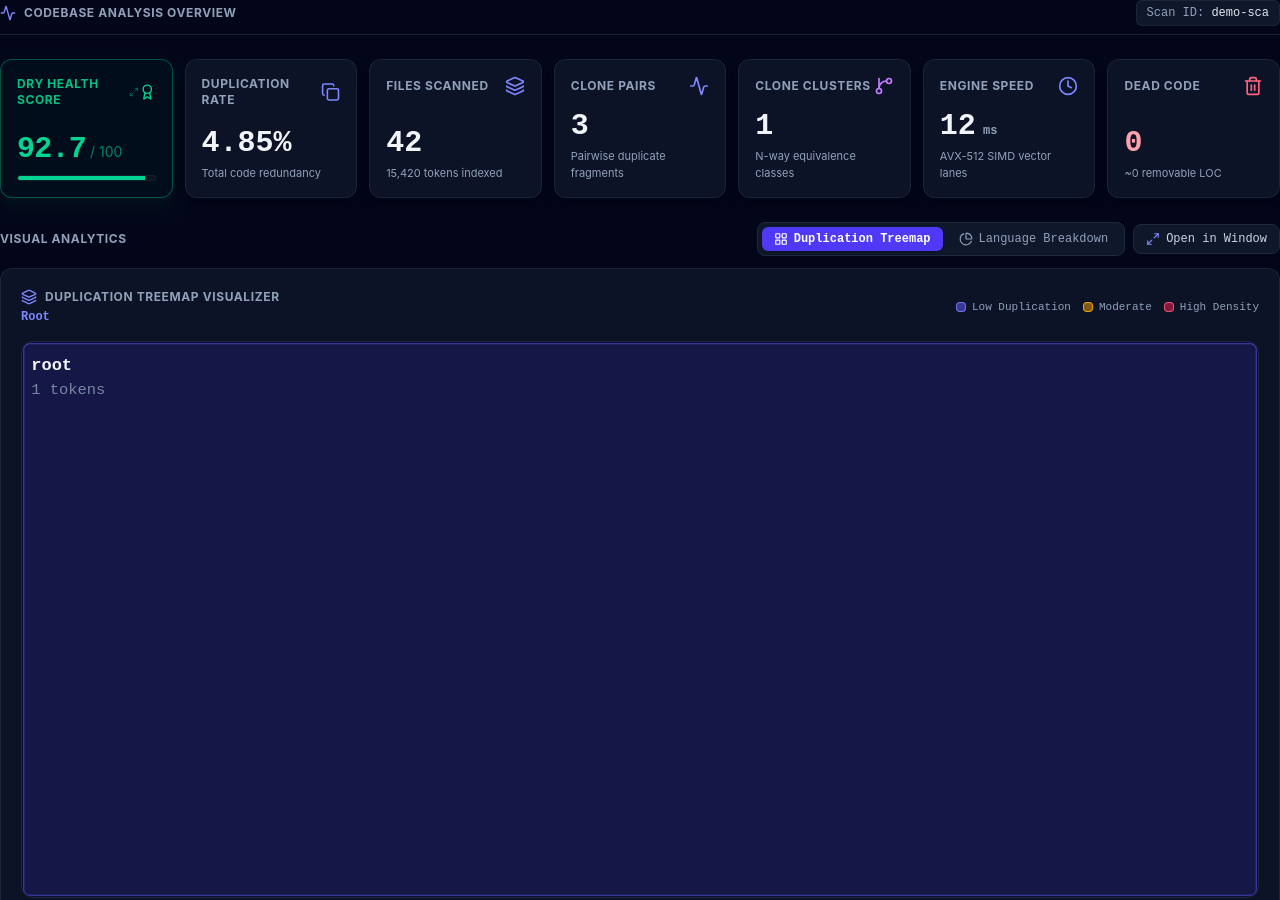
Scenario: ScanResults Component › should render DRY health score and visual analytics when results exist
Expected: the text "DRY Health Score" is shown, [17,76,99,107]
Expected: the text "92.7" is shown, [17,131,86,167]
# Switch to language breakdown
Click the button "Language Breakdown": (1033, 239) [946,227,1120,251]
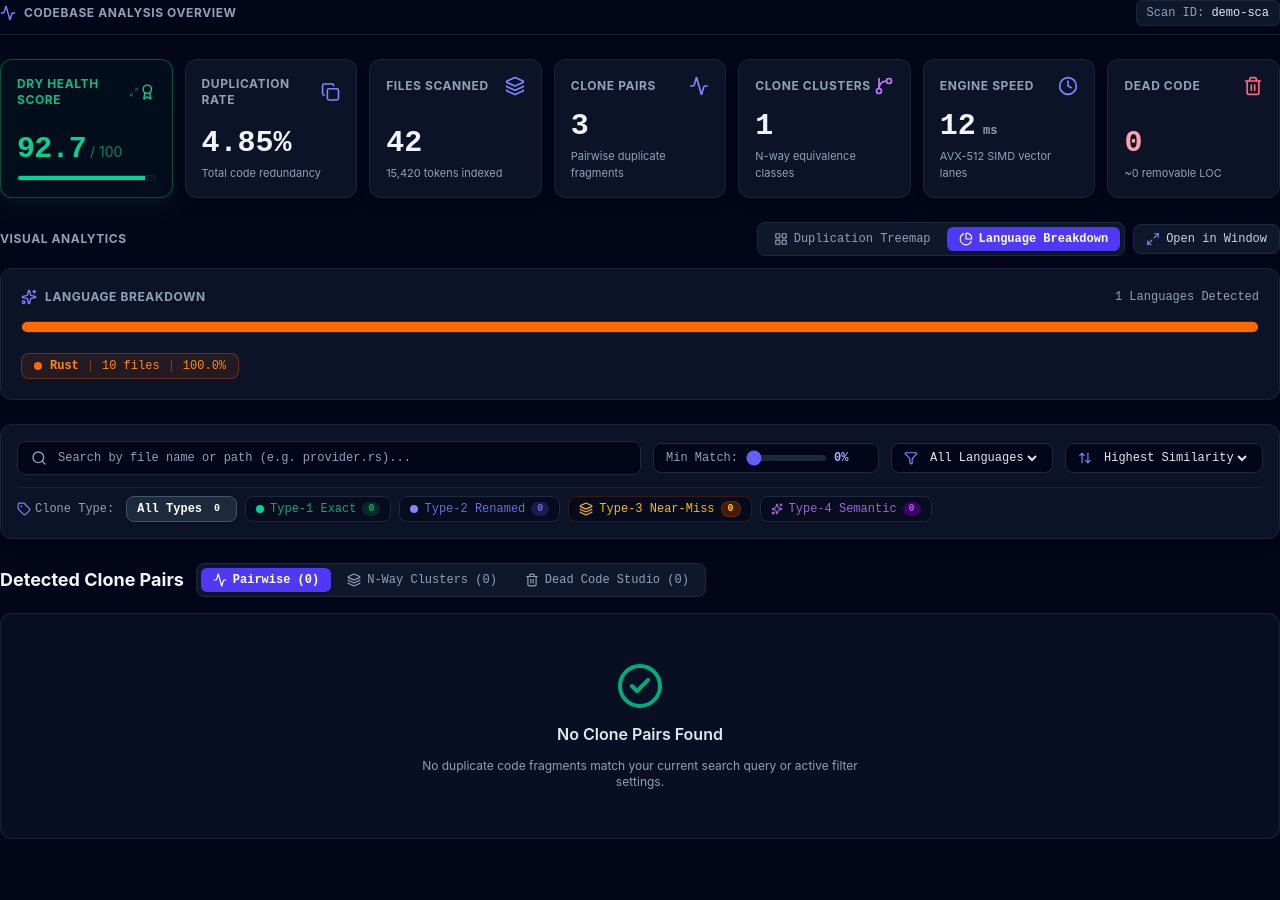
Expected: the text "1 Languages Detected" is shown, [1115,289,1259,305]
